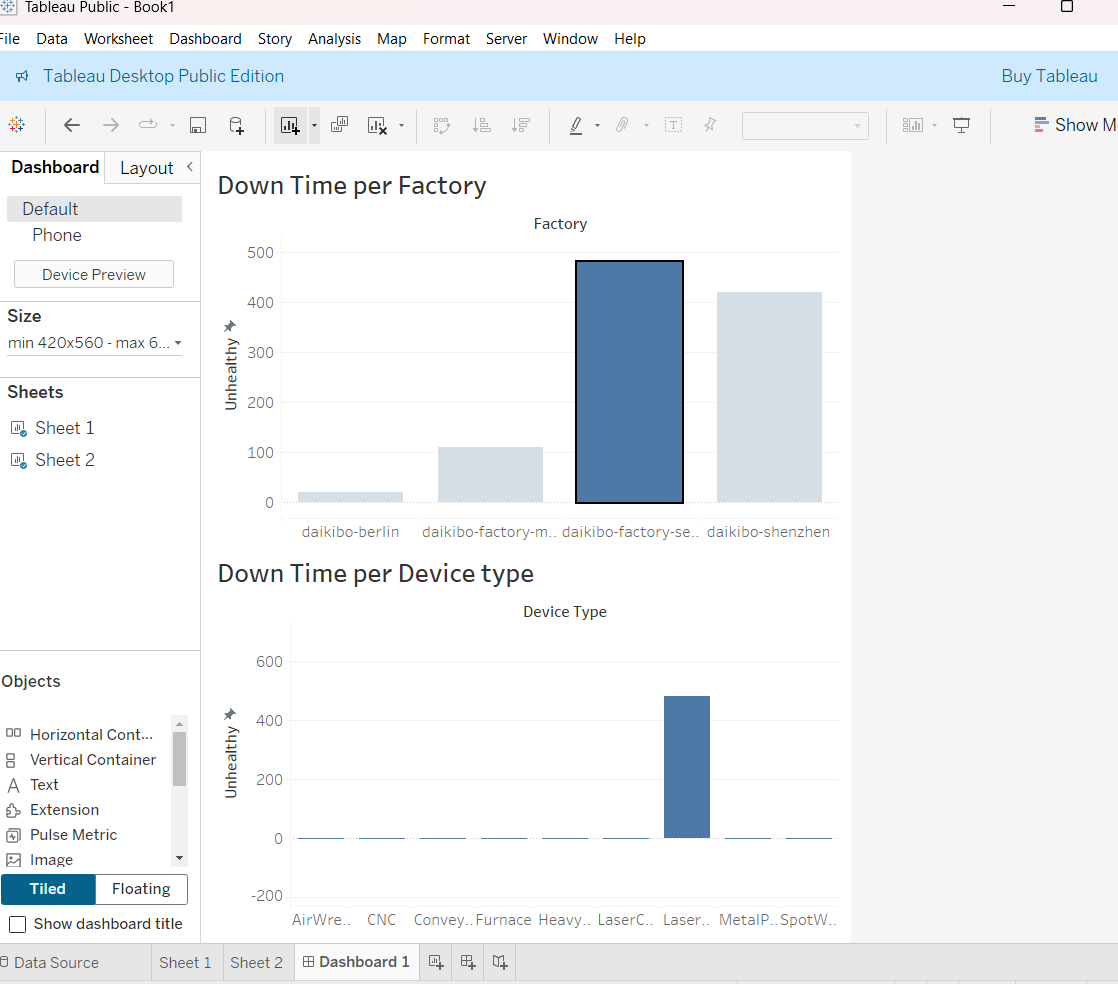

The dashboard page shown, as its layout file describes it:
{"tool":"tableau","page":{"name":"Dashboard 1","canvas":[650,860],"ordinal":0},"visuals":[{"type":"worksheet","title":"Sheet 1","mark":"Automatic","rows":["Calculation_756041809286615040"],"cols":["factory"],"box":[8,8.7,634,421.3]},{"type":"worksheet","title":"Sheet 2","mark":"Automatic","rows":["Calculation_756041809286615040"],"cols":["deviceType"],"box":[8,430,634,421.3]}]}

Visuals, with their boxes on the page's 650x860 design canvas (x1, y1, x2, y2). These are canvas units, not pixel positions in the 1118x984 screenshot, which may show the page scaled, cropped or inside an application window:
"Sheet 1" worksheet: [8,9,642,430]
"Sheet 2" worksheet: [8,430,642,851]
